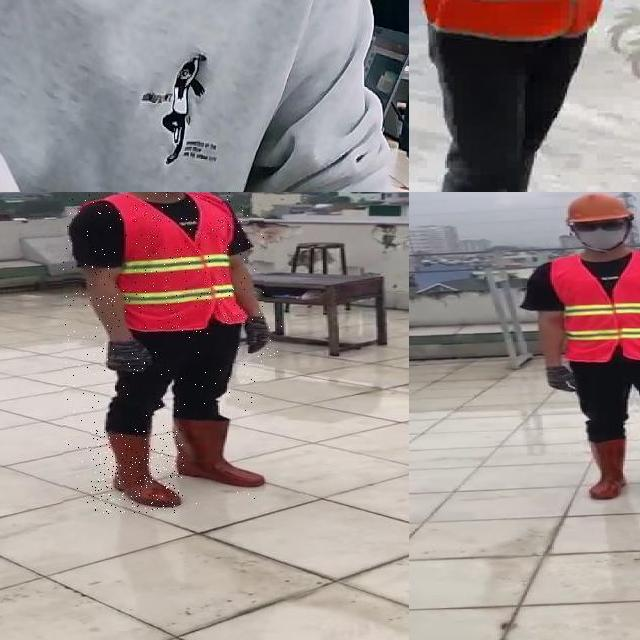BOOTS: (91, 429, 184, 514), (172, 414, 270, 492), (586, 438, 634, 499)
GLASS: (567, 220, 628, 233)
GLOVE: (105, 335, 154, 376), (241, 313, 272, 352), (547, 365, 580, 395)
HELMET: (564, 192, 633, 224)
VEST: (81, 192, 249, 332), (550, 252, 640, 363), (409, 0, 633, 44)
